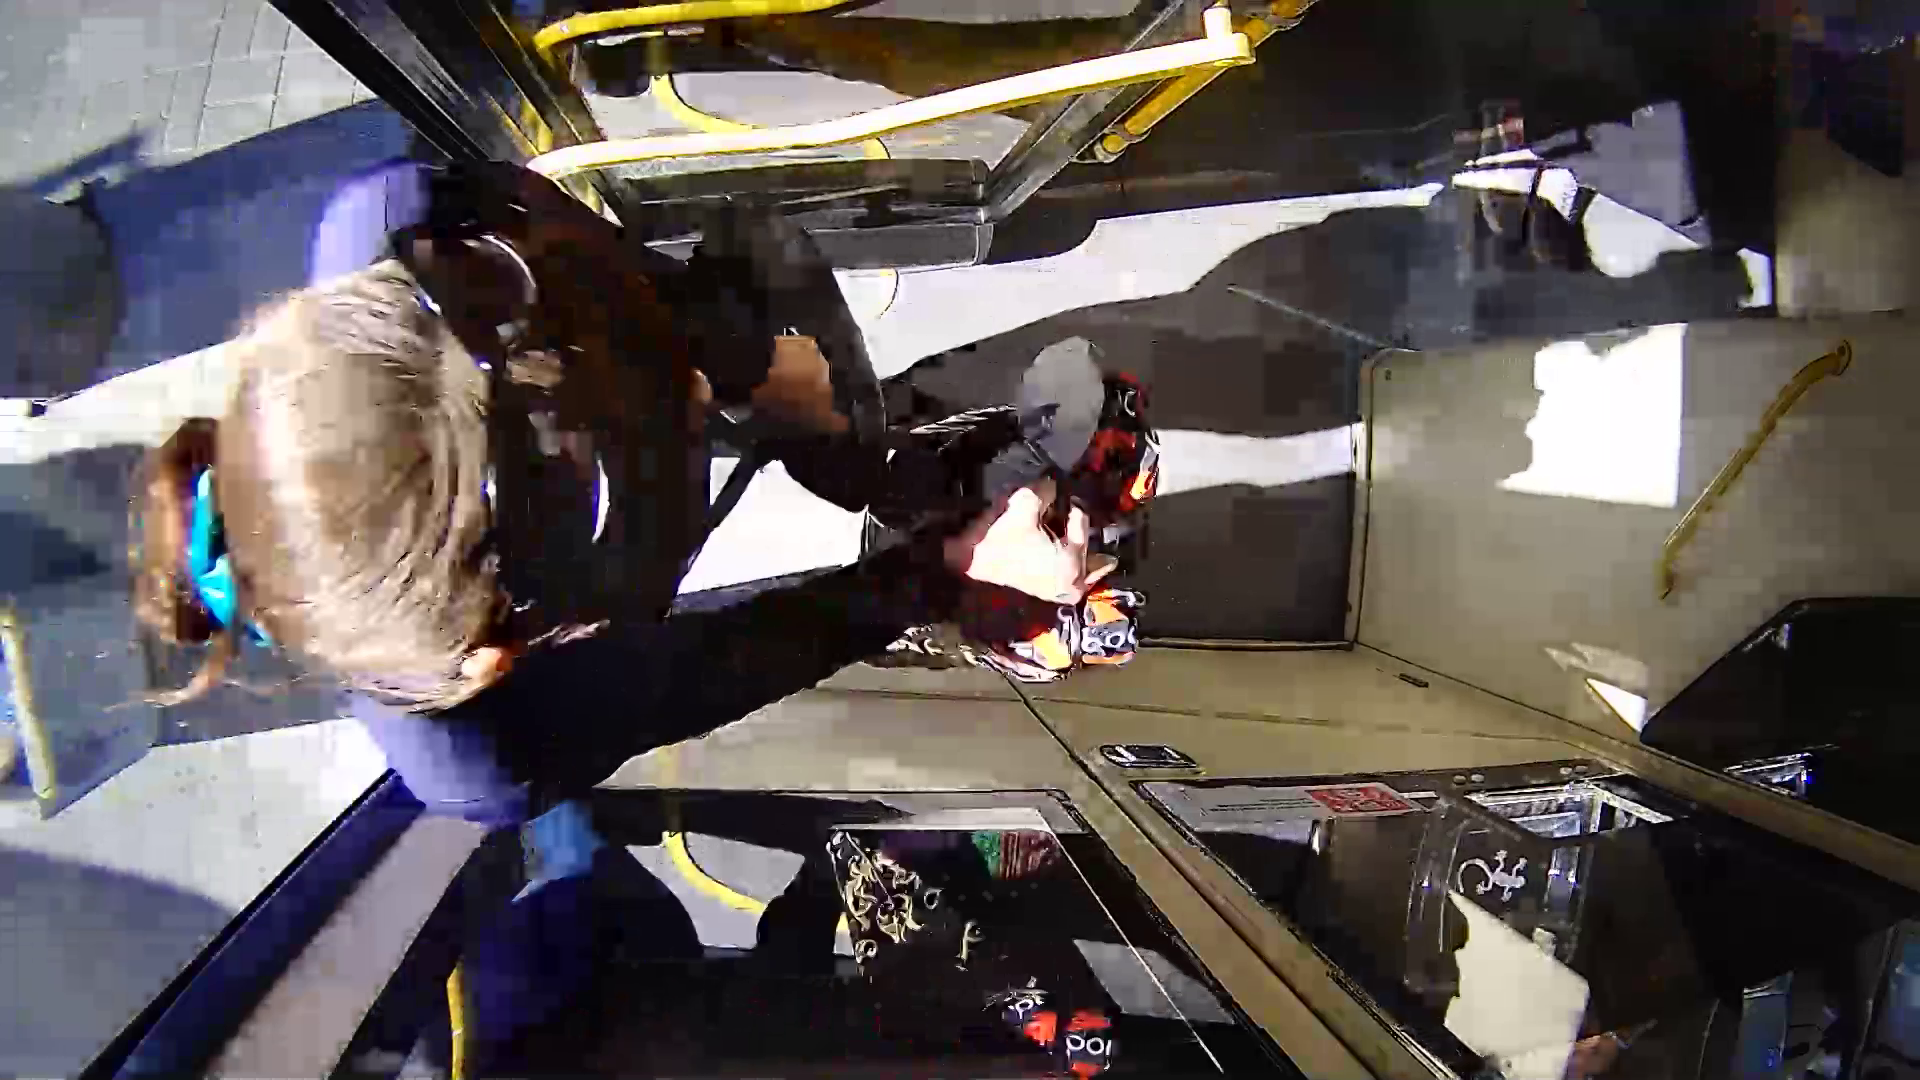person: (146, 164, 1164, 772)
